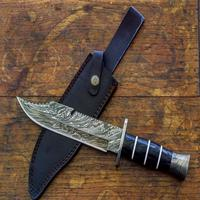knife: (11, 88, 194, 181)
